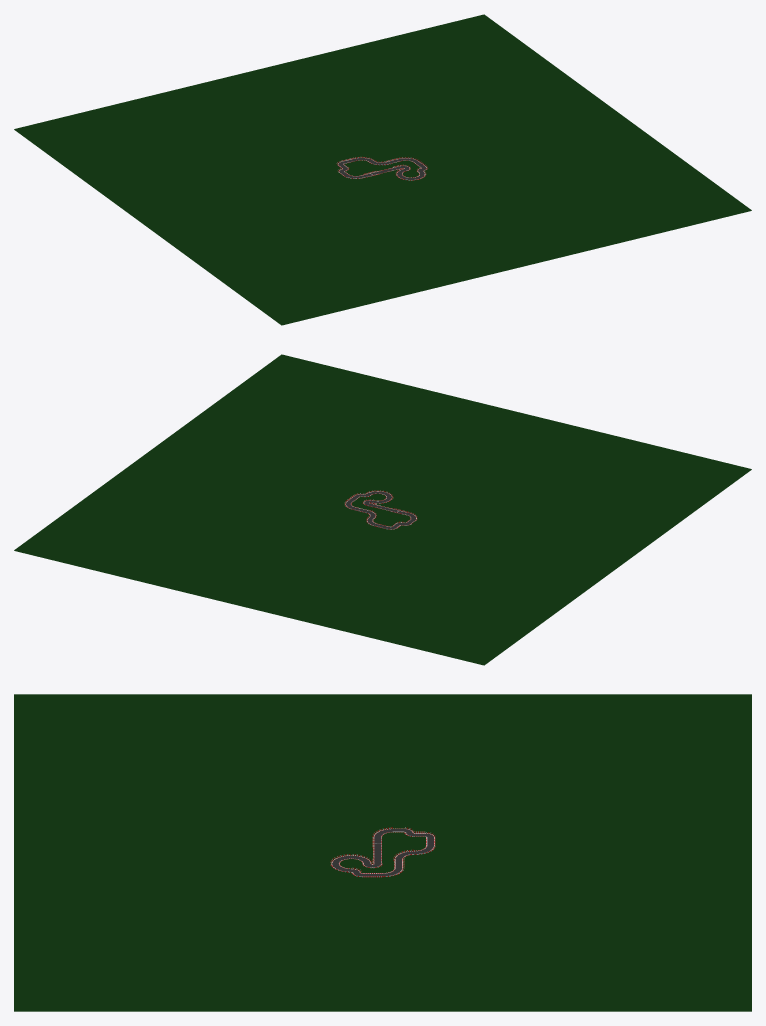
3 views of the same model, one above another, from view 1: azimuth 30°, elevation 25°; view 2: azimuth 150°, elevation 25°; view 3: azimuth 270°, elevation 25° (orthographic). The views are drawn at different scales.
Visible parts, largest first — view 1: Lawn_plane_15m_free_obs__14_, Lawn_plane_15m_free_obs__15_, Lawn_plane_15m_free_obs__12_, Lawn_plane_15m_free_obs__13_, Lawn_plane_15m_free_obs__6_, Lawn_plane_15m_free_obs__30_; view 2: Lawn_plane_15m_free_obs__14_, Lawn_plane_15m_free_obs__15_, Lawn_plane_15m_free_obs__13_, Lawn_plane_15m_free_obs__12_, Lawn_plane_15m_free_obs__6_, Lawn_plane_15m_free_obs__30_; view 3: Lawn_plane_15m_free_obs__15_, Lawn_plane_15m_free_obs__14_, Lawn_plane_15m_free_obs__12_, Lawn_plane_15m_free_obs__13_, Lawn_plane_15m_free_obs__31_, Lawn_plane_15m_free_obs__6_, Lawn_plane_15m_free_obs__11_.
Boxes of the visible parts, x1=… form: Lawn_plane_15m_free_obs__14_: x1=14, y1=80, x2=479, y2=324; Lawn_plane_15m_free_obs__15_: x1=286, y1=14, x2=751, y2=258; Lawn_plane_15m_free_obs__12_: x1=366, y1=175, x2=552, y2=276; Lawn_plane_15m_free_obs__13_: x1=213, y1=63, x2=399, y2=164; Lawn_plane_15m_free_obs__6_: x1=350, y1=172, x2=404, y2=192; Lawn_plane_15m_free_obs__30_: x1=14, y1=129, x2=479, y2=325; Lawn_plane_15m_free_obs__14_: x1=286, y1=420, x2=751, y2=664; Lawn_plane_15m_free_obs__15_: x1=14, y1=354, x2=479, y2=598; Lawn_plane_15m_free_obs__13_: x1=213, y1=515, x2=399, y2=616; Lawn_plane_15m_free_obs__12_: x1=366, y1=403, x2=552, y2=504; Lawn_plane_15m_free_obs__6_: x1=384, y1=495, x2=437, y2=515; Lawn_plane_15m_free_obs__30_: x1=286, y1=469, x2=751, y2=665; Lawn_plane_15m_free_obs__15_: x1=14, y1=877, x2=751, y2=1010; Lawn_plane_15m_free_obs__14_: x1=14, y1=694, x2=751, y2=827; Lawn_plane_15m_free_obs__12_: x1=14, y1=828, x2=330, y2=876; Lawn_plane_15m_free_obs__13_: x1=435, y1=828, x2=751, y2=876; Lawn_plane_15m_free_obs__31_: x1=14, y1=1010, x2=751, y2=1011; Lawn_plane_15m_free_obs__6_: x1=330, y1=828, x2=372, y2=854; Lawn_plane_15m_free_obs__11_: x1=404, y1=859, x2=435, y2=876.
Size of the model in its own units: 106500 by 231 by 105000.
Materials: 1 (1 with a texture image).
